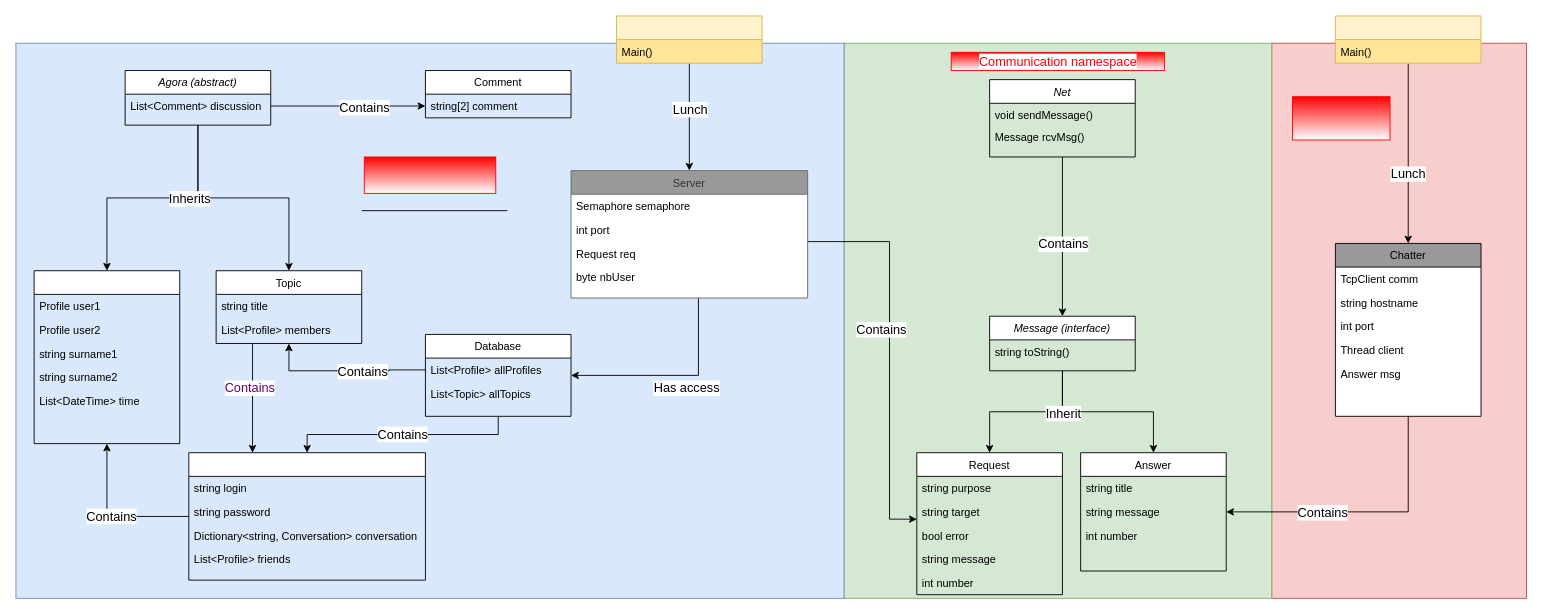
Image size: 1542x614. Some labels were removed from this diagram. Here are the shapes that lost their labels. From the top down, the box of each, then its label:
(616, 15, 762, 63): Program
(1335, 15, 1481, 63): Application
(1292, 96, 1390, 140): Client namespace
(363, 156, 496, 193): Server namespace
(33, 270, 180, 444): Conversation
(188, 452, 425, 580): Profile
